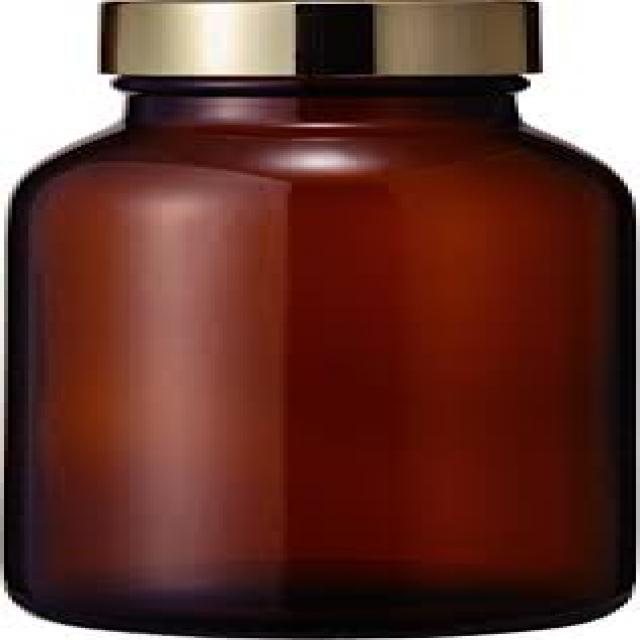Glass: (0, 74, 640, 640)
Metal: (79, 0, 558, 85)
